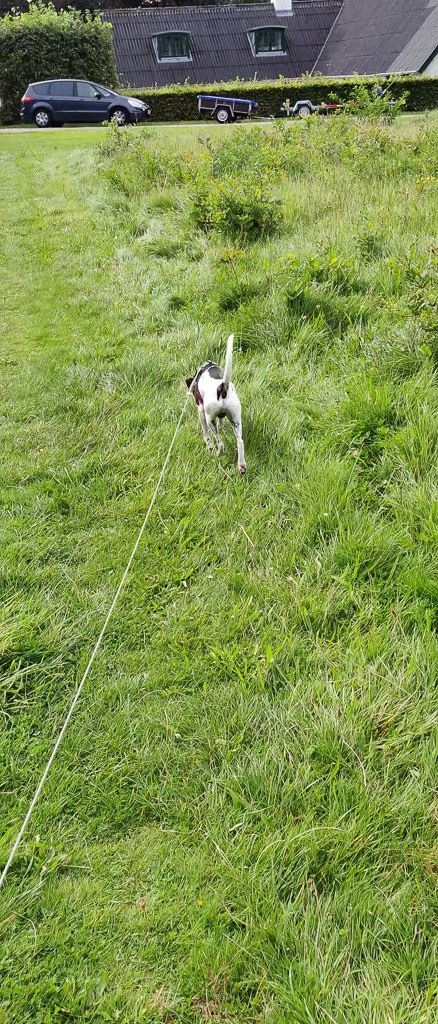Dog: (160, 326, 263, 487)
